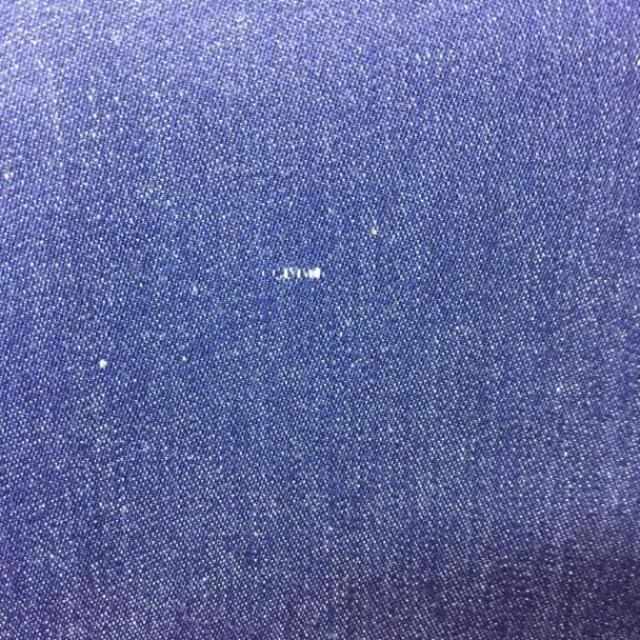Knot: (273, 267, 320, 280), (98, 359, 108, 370)
